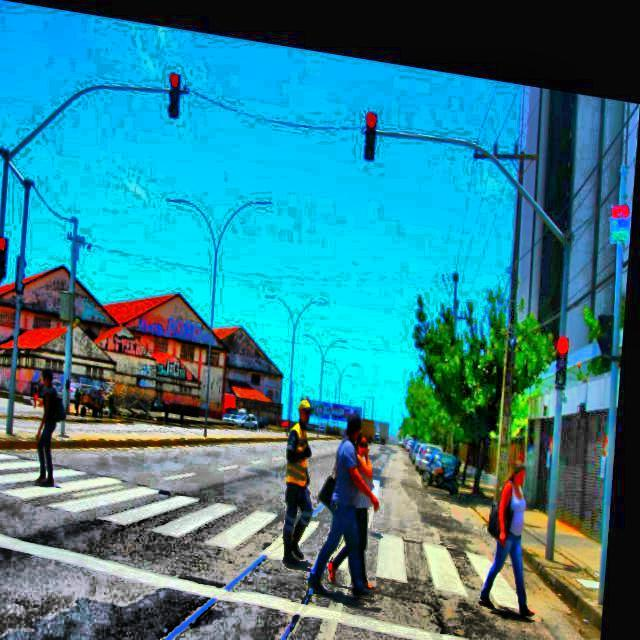faixa de pedestre: (0, 446, 542, 616)
